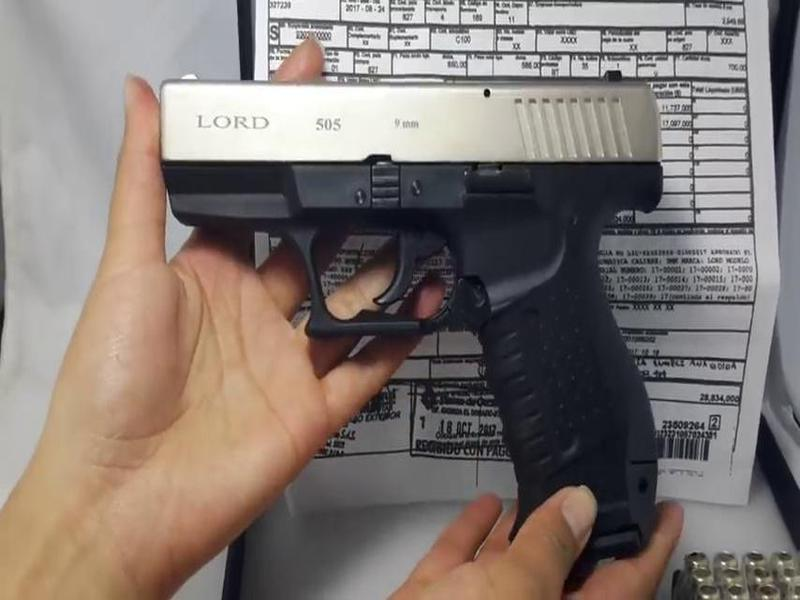Pistola: (138, 45, 710, 563)
